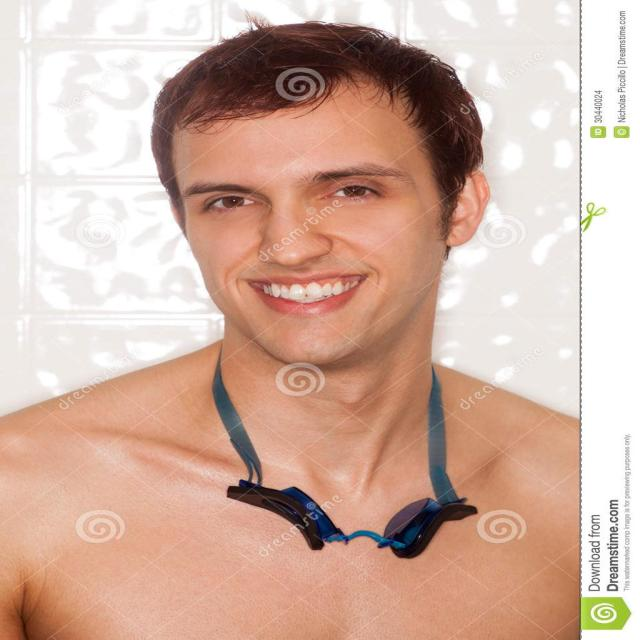Face: (152, 57, 441, 385)
